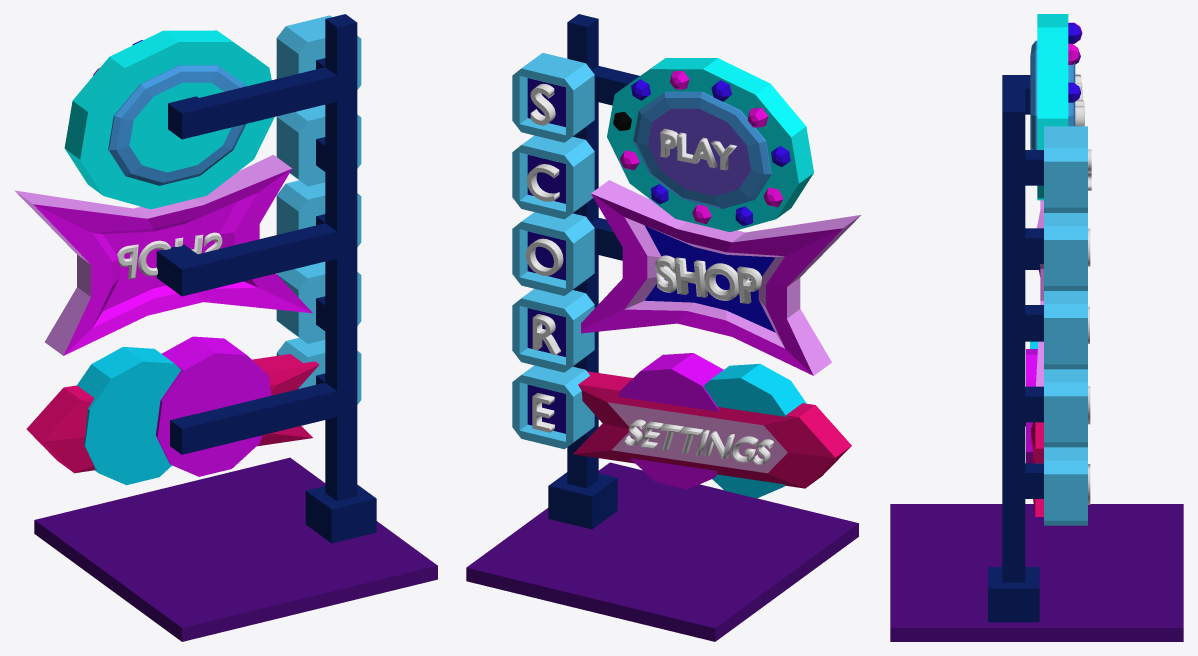
File: v2_gas_station_signboard.fbx
The picture shows the model from 3 angles, left to right: view 1: azimuth 30°, elevation 25°; view 2: azimuth 150°, elevation 25°; view 3: azimuth 270°, elevation 25°; orthographic projection. The views are drawn at different scales.
Parts seen in each view (by area): view 1: Plane.015, Cube.010, Cylinder, Cube.007, Cube.009, Cylinder.005, Cylinder.004, Cube.008, Text.001; view 2: Plane.015, Cylinder, Cube.009, Cube.007, Cube.008, Cube.010, Cylinder.004, Cylinder.005, Text.001, Text, ad, Text.003 (+4 smaller); view 3: Plane.015, Cube.010, Cube.009, Cylinder, Cube.008, Cylinder.004, Cube.007.
Boxes of the visible parts, x1,y1,x2,y2 form: Plane.015: (34, 457, 437, 641); Cube.010: (156, 14, 376, 543); Cylinder: (64, 30, 274, 209); Cube.007: (14, 154, 312, 355); Cube.009: (276, 15, 361, 404); Cylinder.005: (77, 347, 180, 485); Cylinder.004: (156, 336, 271, 476); Cube.008: (26, 354, 319, 473); Text.001: (117, 232, 222, 279); Plane.015: (466, 462, 858, 641); Cylinder: (607, 58, 813, 232); Cube.009: (512, 53, 594, 449); Cube.007: (581, 180, 860, 375); Cube.008: (573, 371, 851, 488); Cube.010: (548, 14, 639, 529); Cylinder.004: (619, 353, 723, 489); Cylinder.005: (703, 363, 806, 498); Text.001: (655, 255, 761, 303); Text: (624, 419, 773, 464); ad: (660, 128, 736, 170); Text.003: (525, 238, 563, 275); Plane.015: (890, 504, 1183, 641); Cube.010: (988, 75, 1043, 622); Cube.009: (1044, 126, 1087, 525); Cylinder: (1030, 14, 1082, 200); Cube.008: (1031, 422, 1043, 516); Cylinder.004: (1026, 349, 1037, 463); Cube.007: (1036, 200, 1043, 386).
Size of the model in its own units: 1753 by 2662 by 1348.
